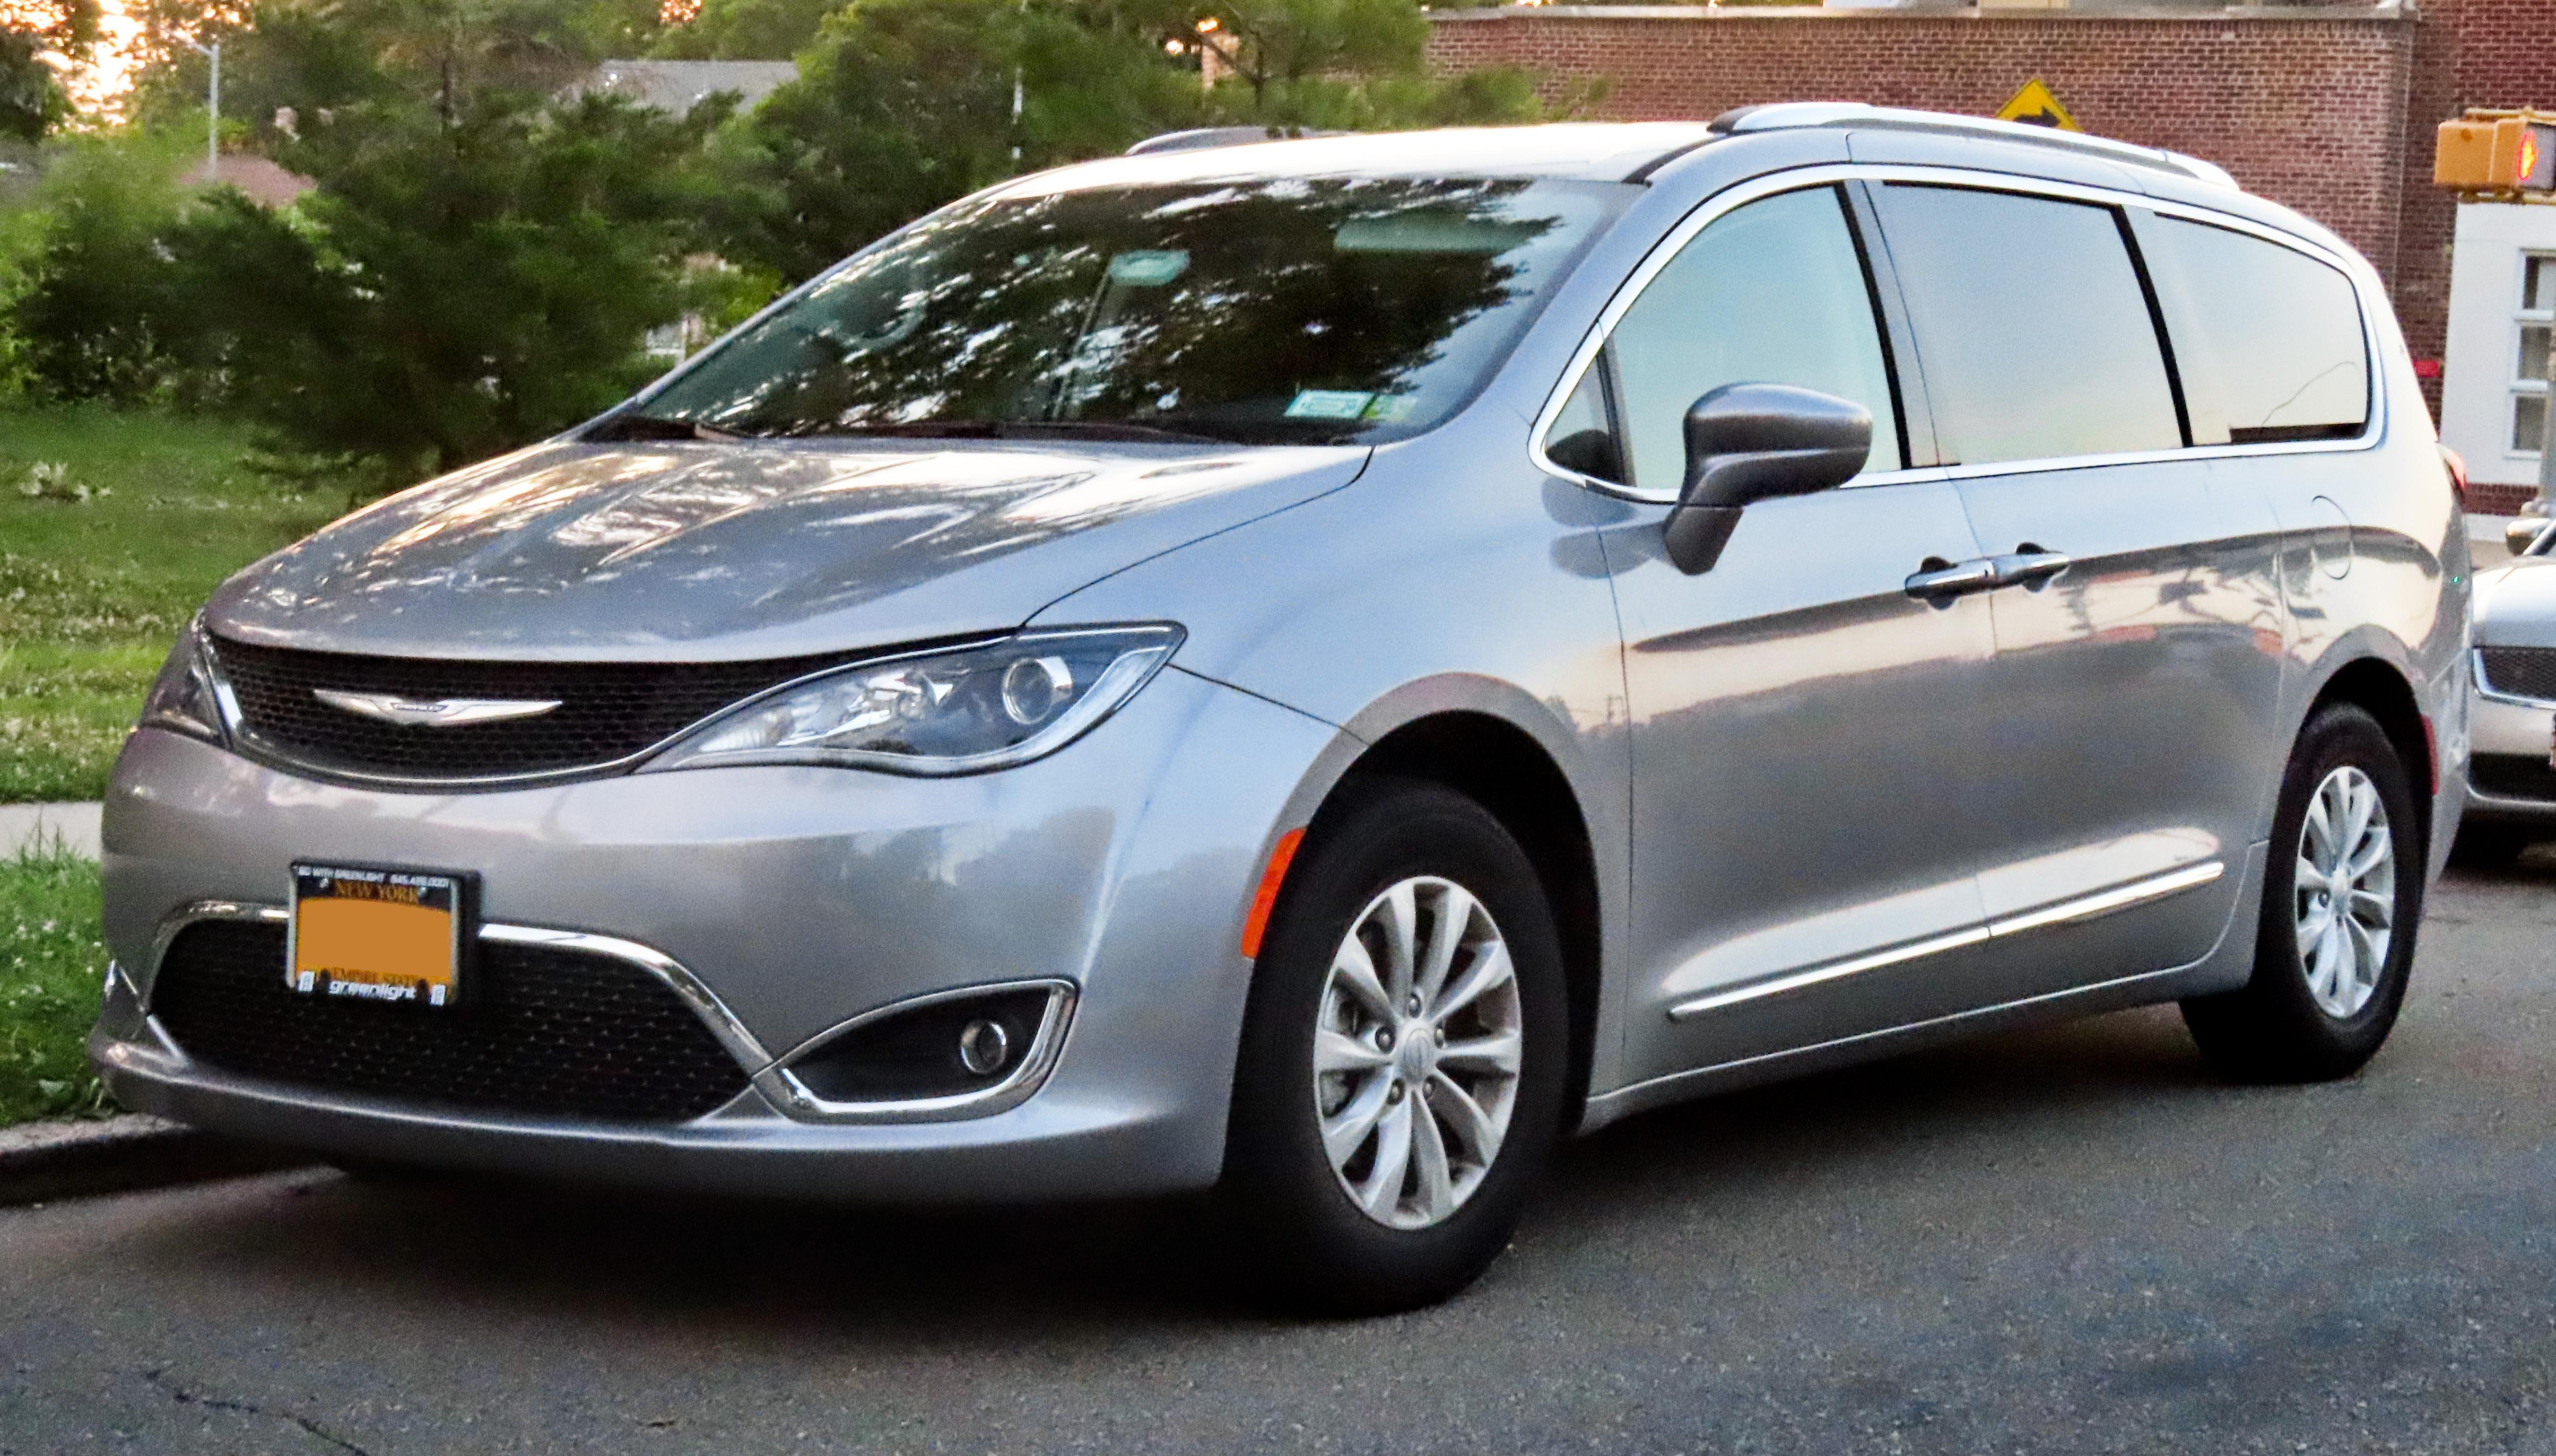Minivan: (90, 105, 2472, 1309)
